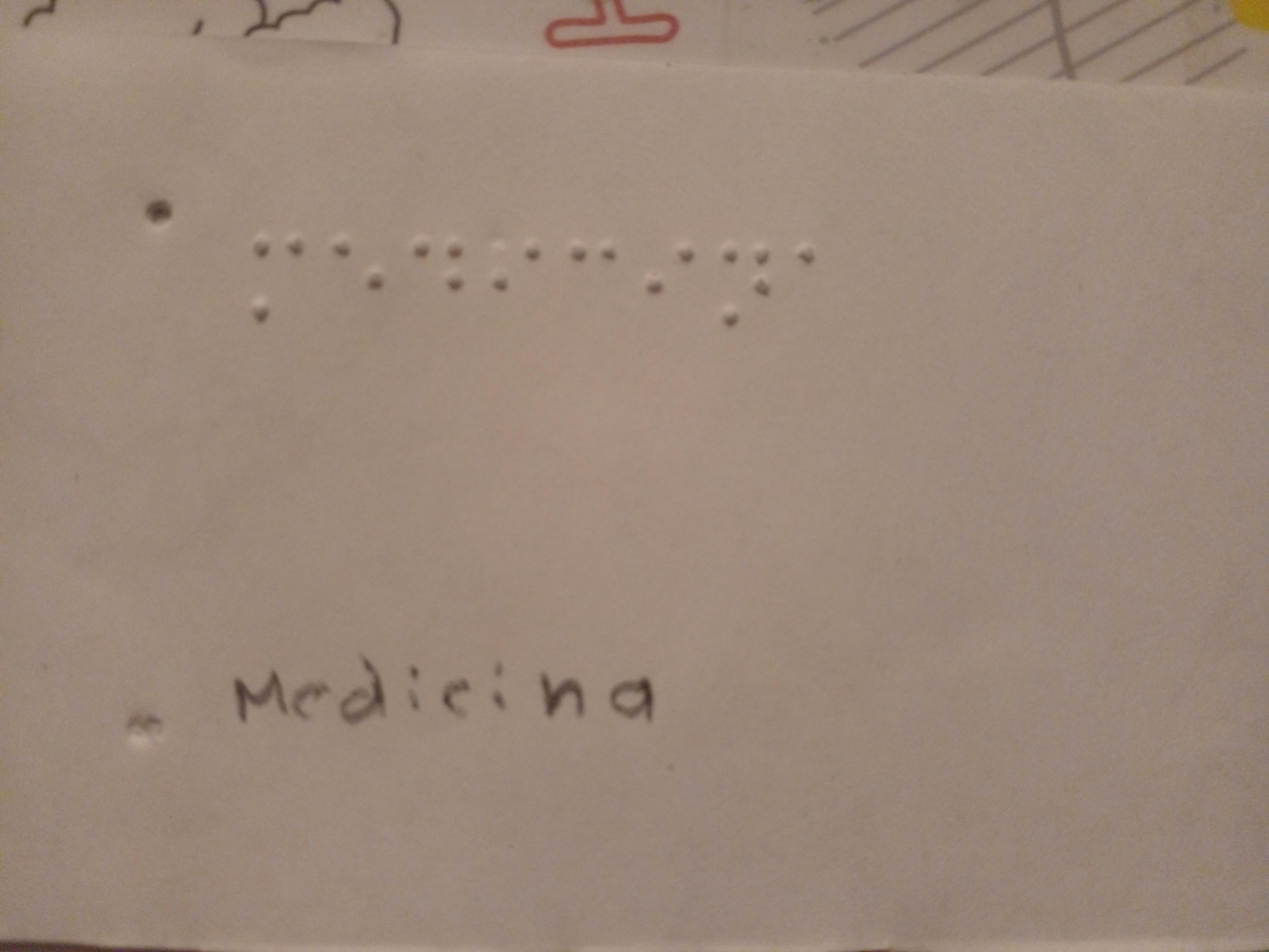a: (784, 225, 833, 305)
c: (565, 228, 627, 305)
d: (406, 215, 468, 315)
e: (327, 226, 390, 318)
i: (646, 215, 700, 318), (491, 220, 547, 318)
m: (235, 222, 321, 325)
n: (717, 226, 771, 339)
